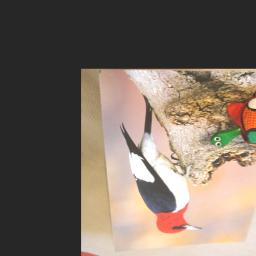Woodpecker: (119, 94, 202, 235)
